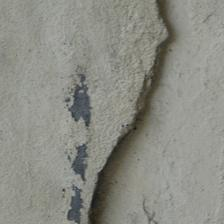Crack: (43, 1, 136, 221)
